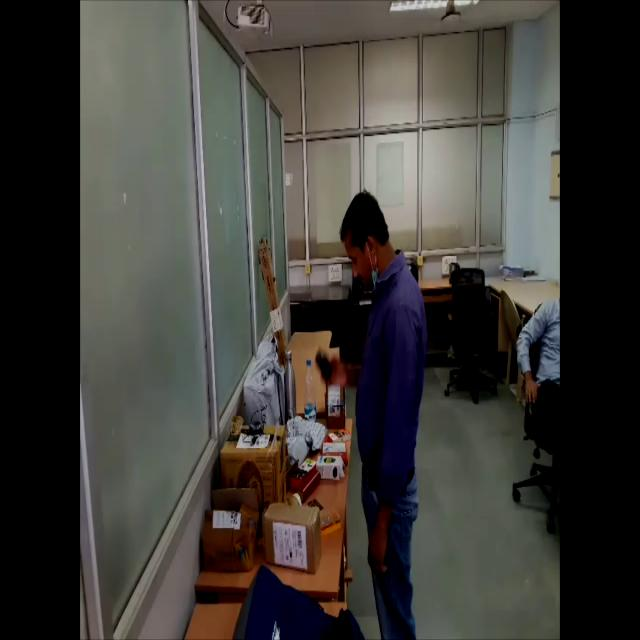normal: (313, 169, 435, 640)
